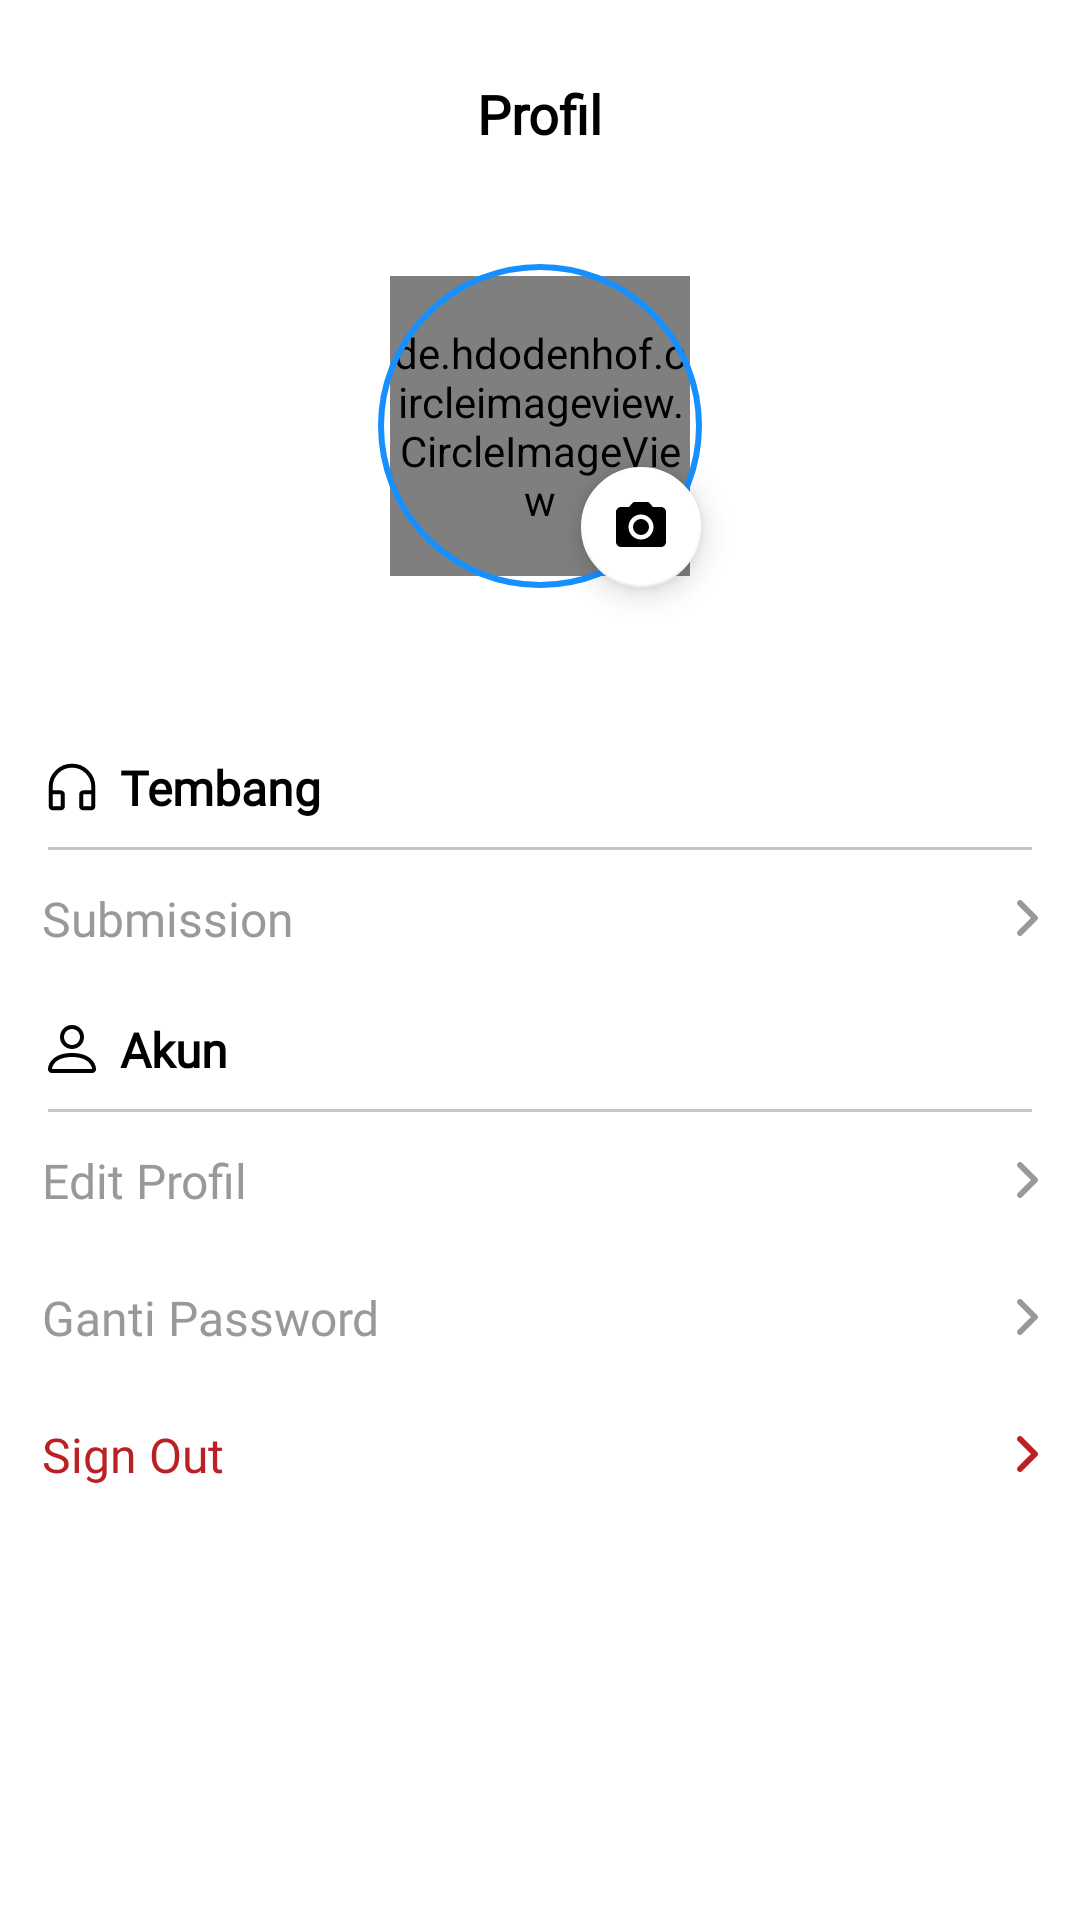

Where to tap for icons on this 1080x1920 app screen, as [x,y]:
camera: [641,527]
